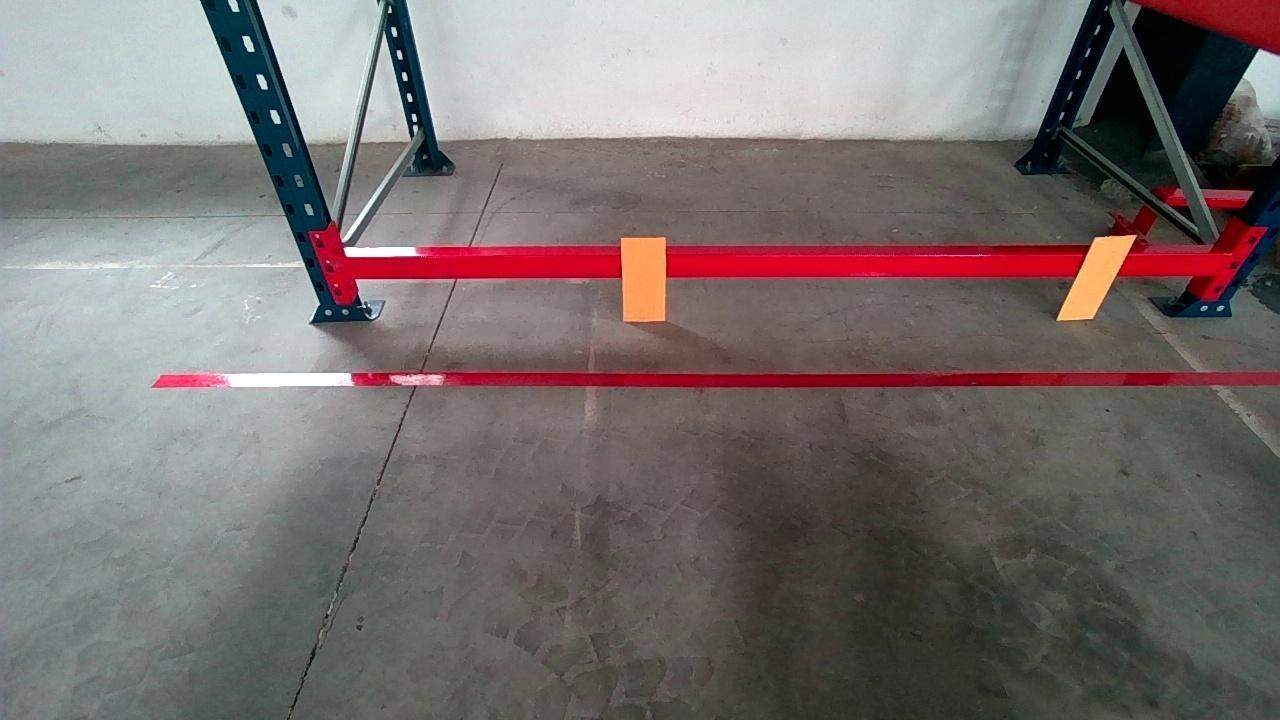h_rack: (348, 243, 1220, 280)
orange_strip: (1057, 235, 1137, 318), (622, 236, 667, 320)
red_line: (160, 362, 1276, 406)
